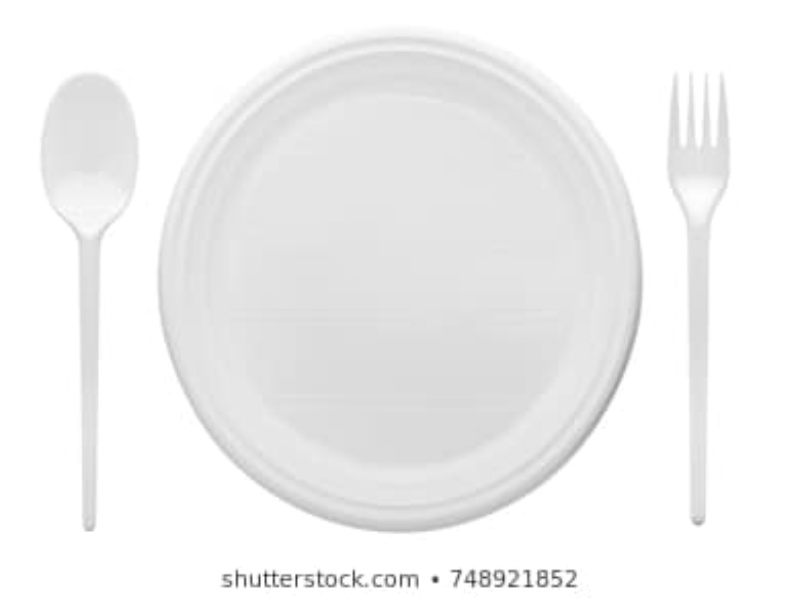plastic-plate: (153, 25, 644, 536)
plastic-silverware: (38, 72, 142, 530), (666, 71, 736, 529)
